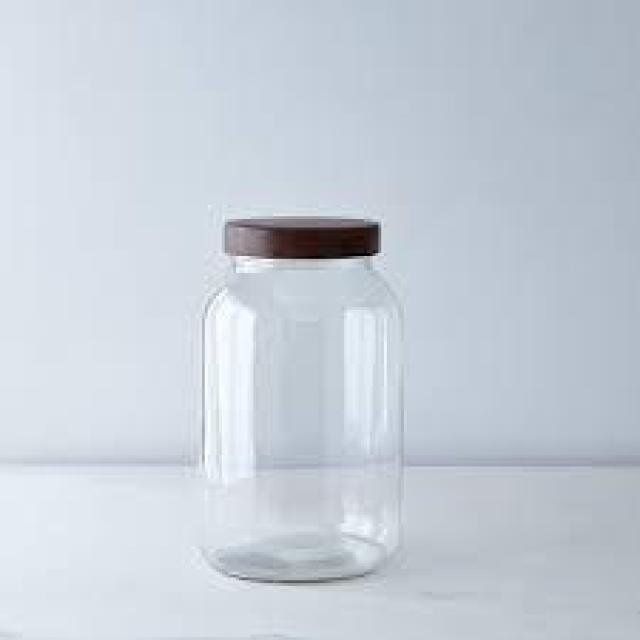Glass: (198, 212, 408, 588)
